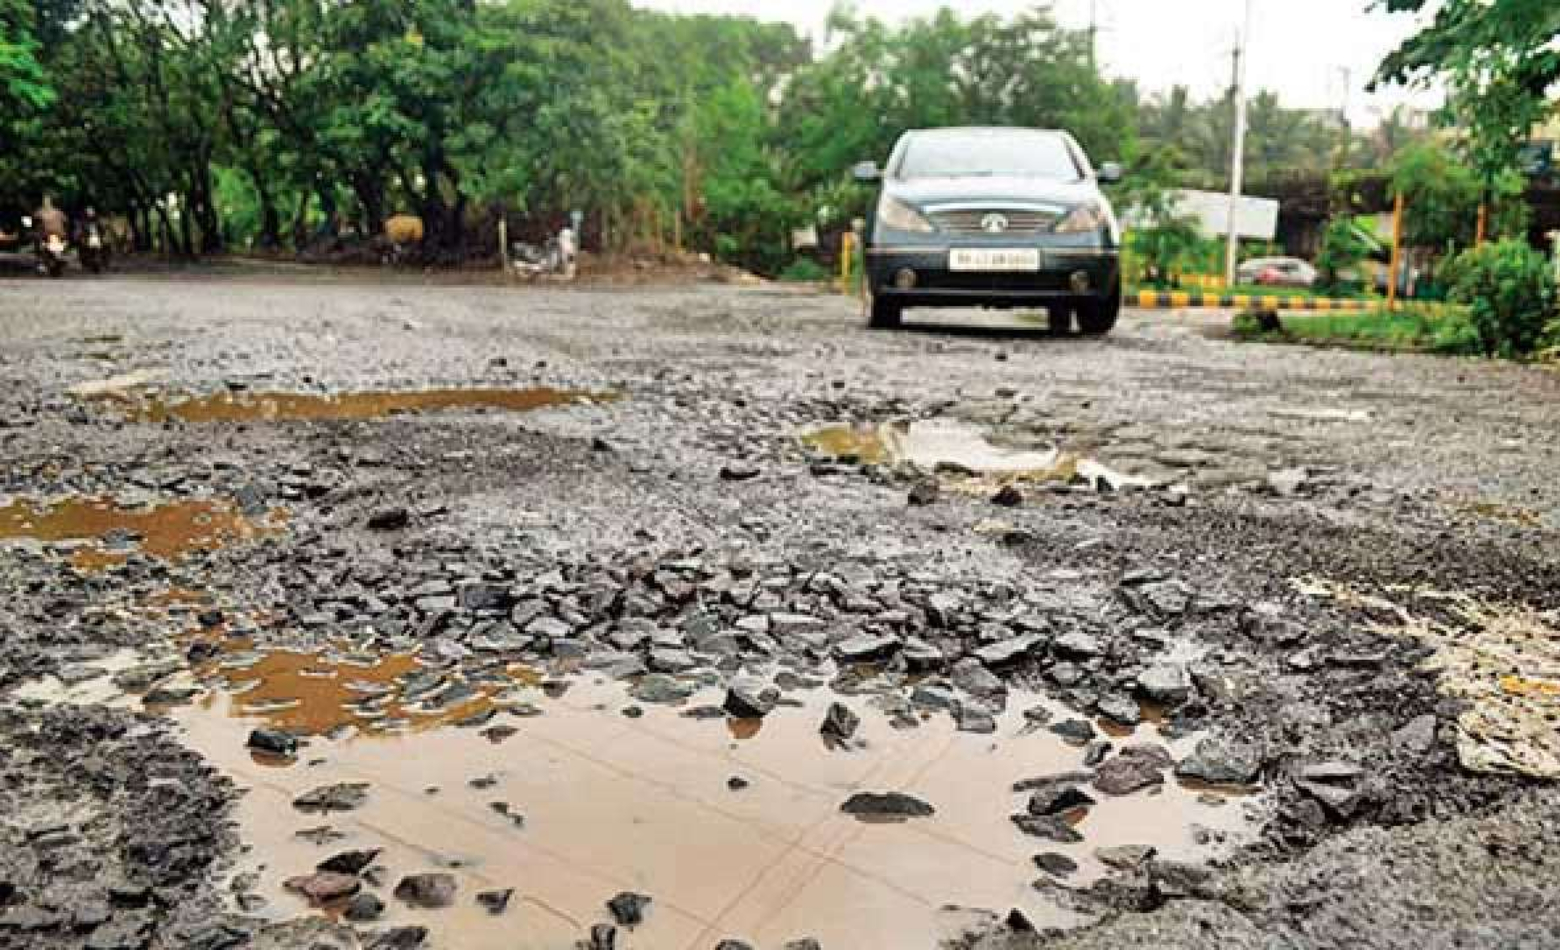pothole: (142, 595, 1100, 948), (103, 297, 644, 463), (779, 350, 1156, 567), (4, 444, 304, 542)
